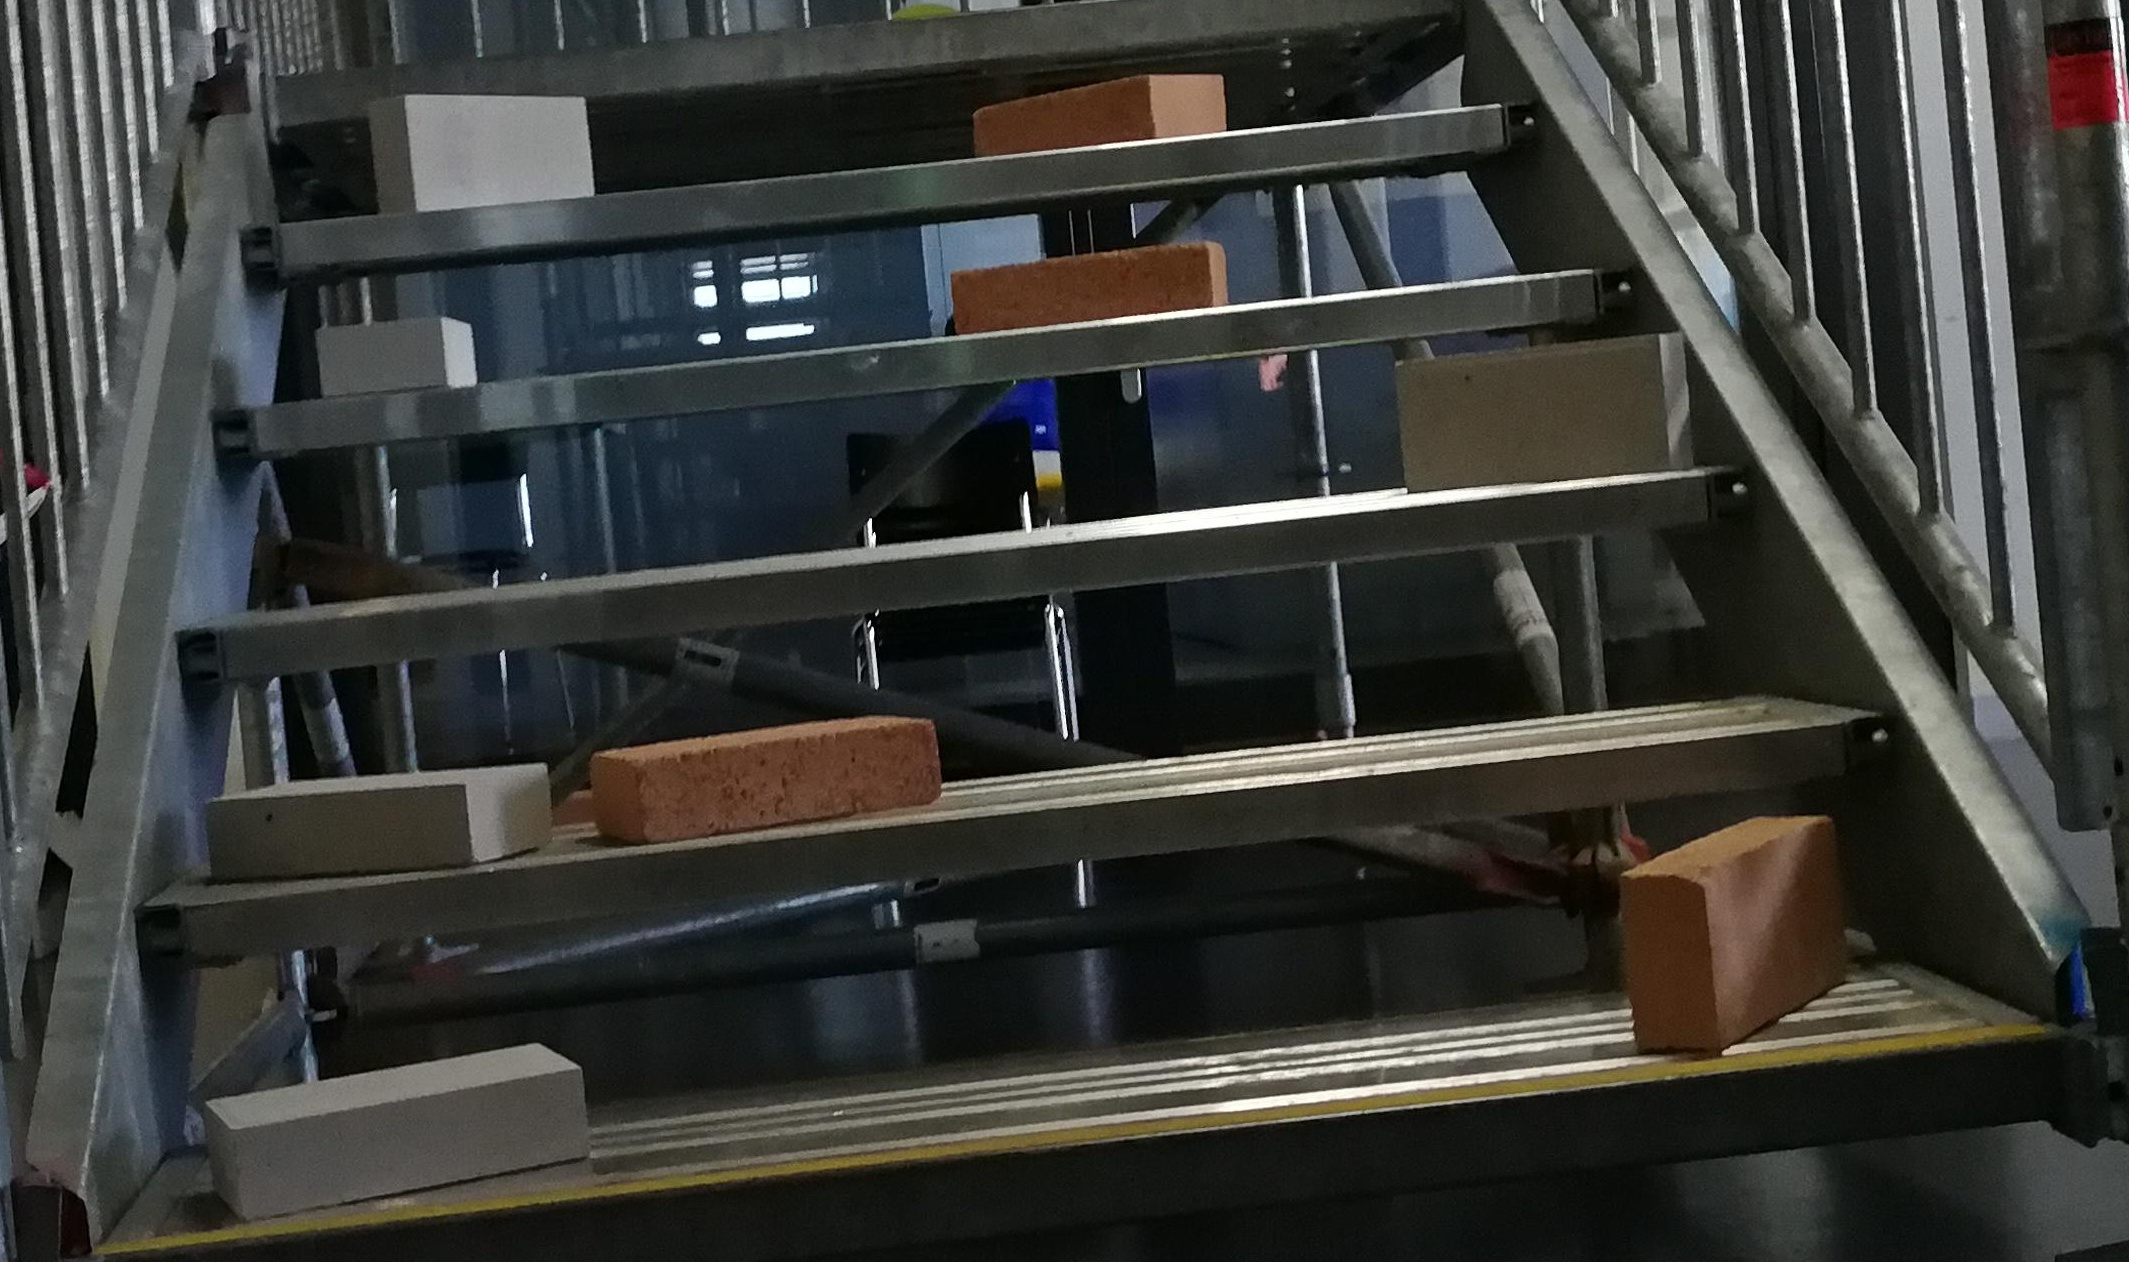brick: (206, 1037, 584, 1220), (1623, 814, 1847, 1053), (587, 712, 938, 847), (1400, 335, 1687, 491), (209, 765, 544, 868), (373, 95, 590, 213), (950, 242, 1228, 325), (974, 75, 1225, 147)
edge: (45, 1040, 2061, 1257), (146, 723, 1895, 954), (183, 472, 1741, 687), (243, 101, 1510, 258), (233, 267, 1596, 400)
